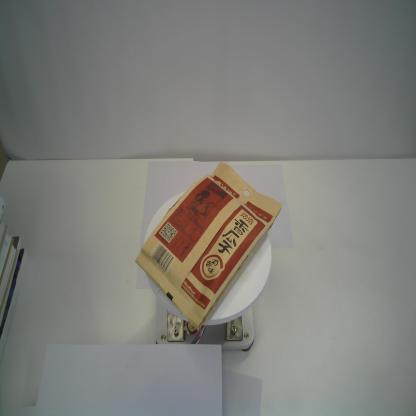Dried Food: (134, 160, 285, 335)
